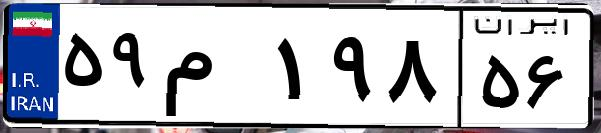1: (270, 28, 330, 110)
5: (57, 26, 110, 100), (475, 38, 525, 113)
6: (525, 38, 570, 115)
8: (385, 28, 445, 110)
9: (330, 28, 385, 110), (110, 28, 158, 98)
م: (158, 20, 270, 120)
